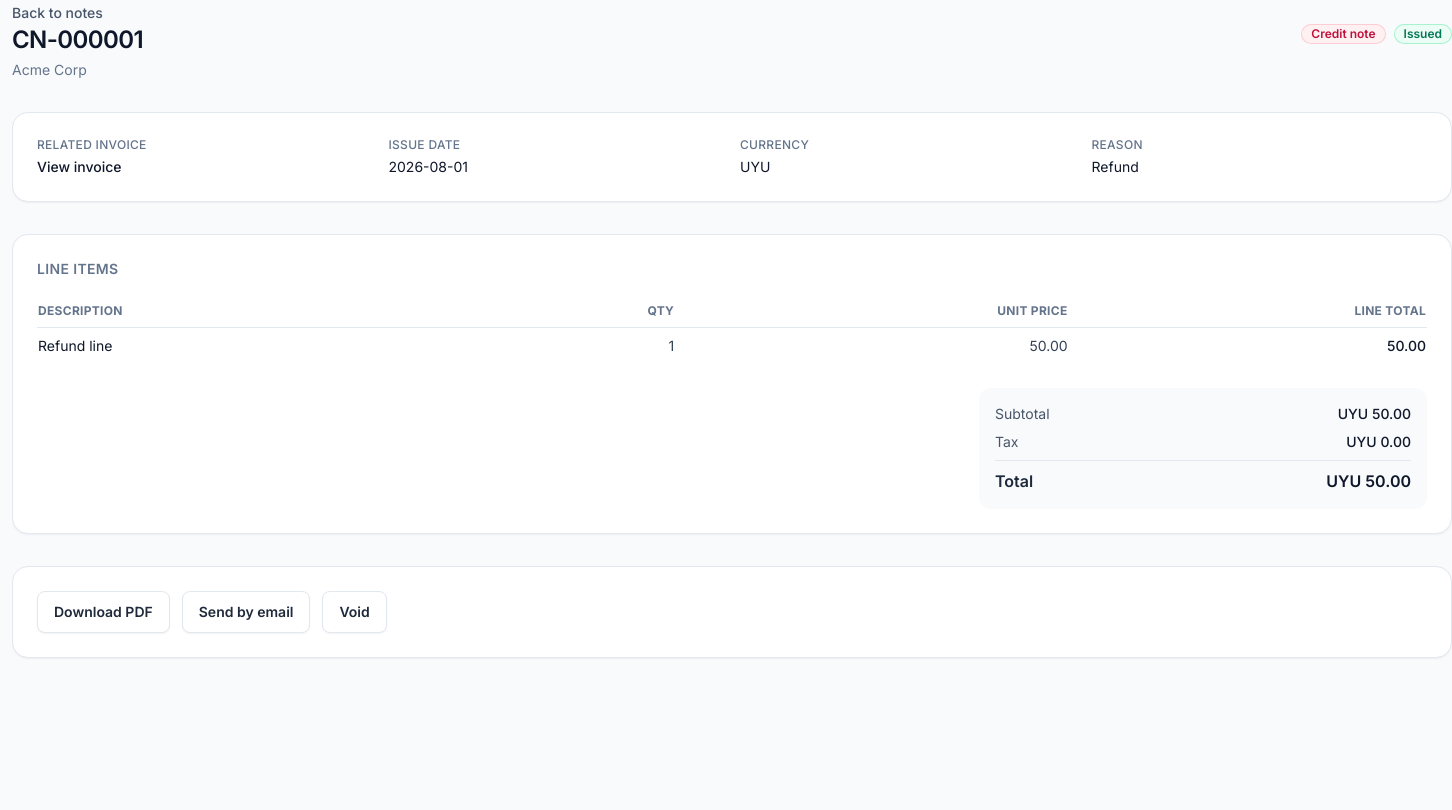
note detail page › sends the note by email and shows a success toast
The image size is (1452, 810).
Expected: the heading "CN-000001" is shown, [12,24,143,56]
Step 1. Click the button "Send by email" → (246, 612), box [182,591,310,633]
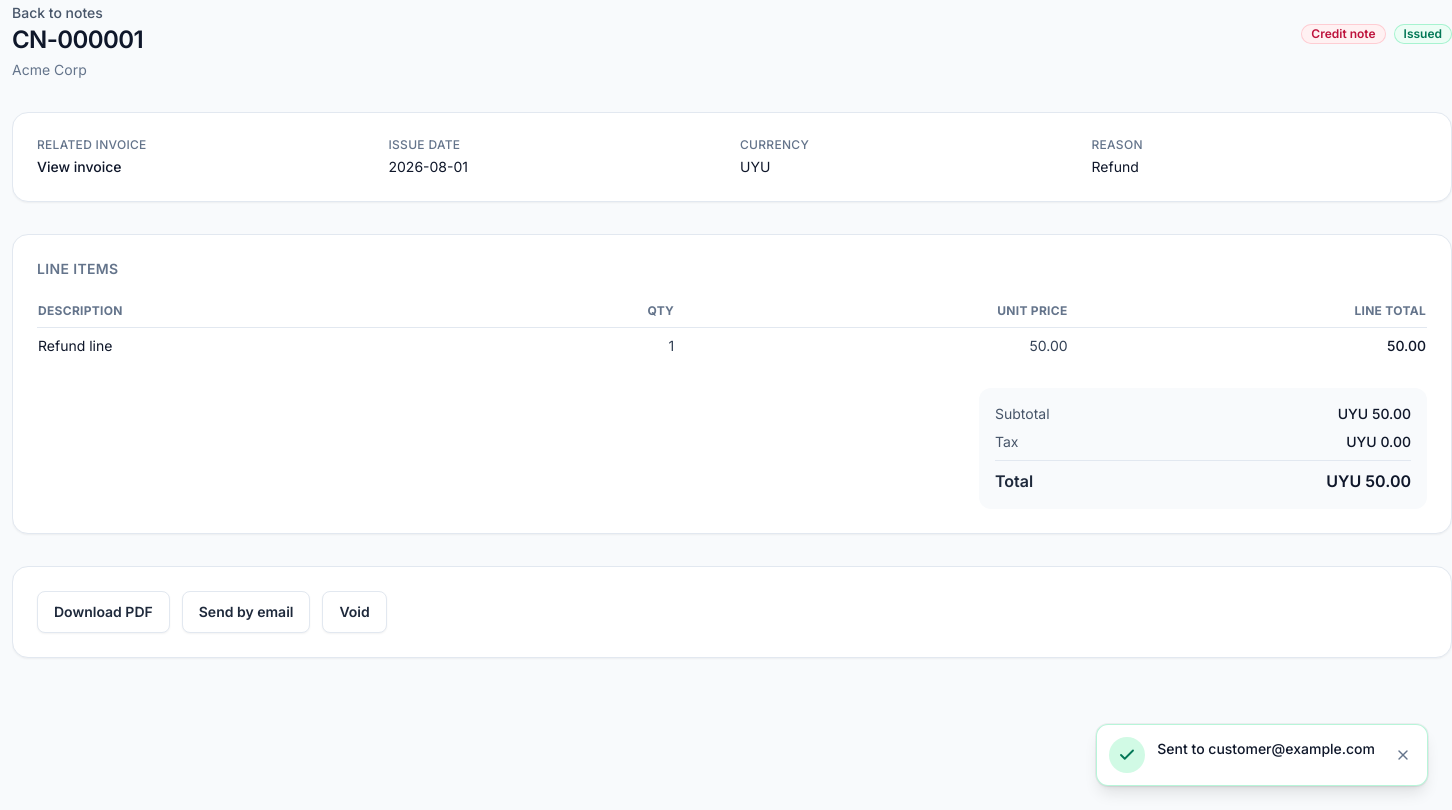
Expected: the text "Sent to customer@example.com" is shown, [1157,739,1375,758]
